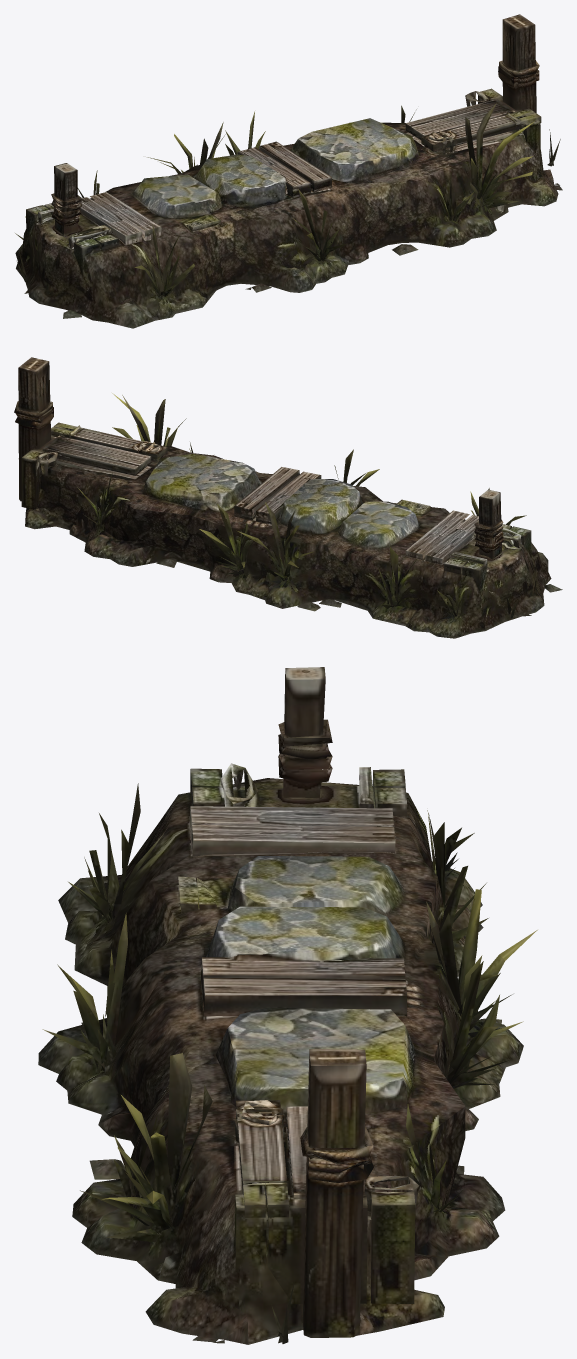
The model's file is act1_kit_v1_causeway.glb.
3 renders of one model, top to bottom at view 1: azimuth 30°, elevation 25°; view 2: azimuth 150°, elevation 25°; view 3: azimuth 270°, elevation 25°, orthographic. The views are drawn at different scales.
Visible parts, largest first — view 1: A06_1_causeway; view 2: A06_1_causeway; view 3: A06_1_causeway.
Boxes of the visible parts, x1,y1,x2,y2 form: A06_1_causeway: (15,14,562,328); A06_1_causeway: (14,357,562,638); A06_1_causeway: (38,667,537,1344).
Size of the model in its own units: 0.9502 by 0.2426 by 0.397.
1 material, 1 textured.
